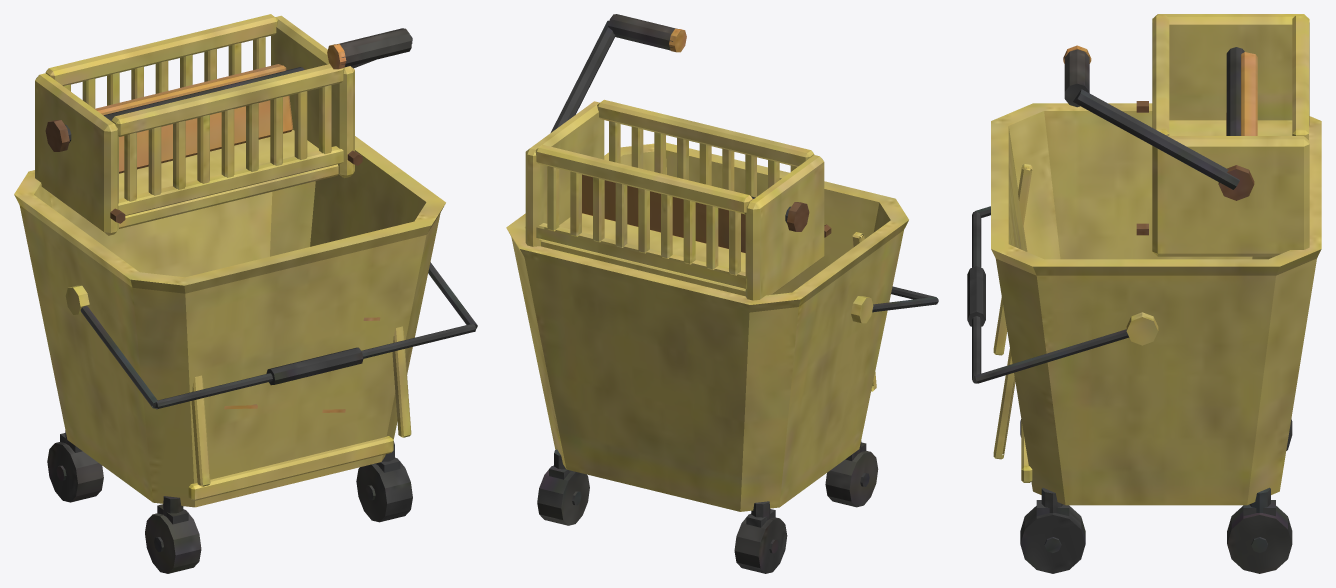
The model's file is F40_mop_bucket.glb.
The picture shows the model from 3 angles, left to right: view 1: azimuth 30°, elevation 25°; view 2: azimuth 150°, elevation 25°; view 3: azimuth 270°, elevation 25°; orthographic projection. The views are drawn at different scales.
Parts seen in each view (by area): view 1: Tapered yellow mop bucket; view 2: Tapered yellow mop bucket; view 3: Tapered yellow mop bucket.
Boxes of the visible parts, x1=… form: Tapered yellow mop bucket: x1=14, y1=14, x2=477, y2=573; Tapered yellow mop bucket: x1=506, y1=14, x2=938, y2=573; Tapered yellow mop bucket: x1=967, y1=14, x2=1321, y2=573.
Bounding box in the file's own units: 0.4343 × 0.6 × 0.3843.
Materials: 5 (5 with a texture image).
